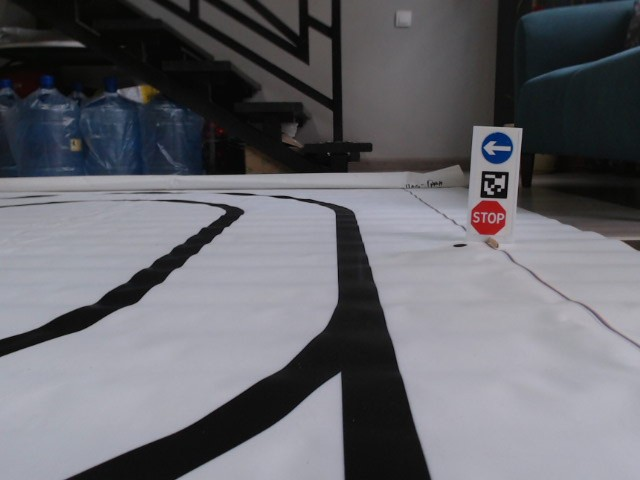Stop: (472, 198, 506, 235)
